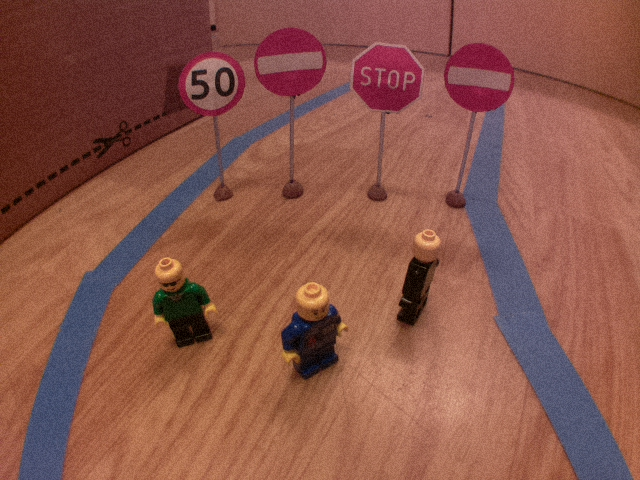LEGO_person: (277, 279, 355, 384), (147, 254, 224, 350), (391, 225, 448, 332)
ogr_50: (176, 50, 247, 118)
stop: (349, 40, 427, 115)
zakaz: (250, 26, 330, 99), (441, 40, 518, 115)
